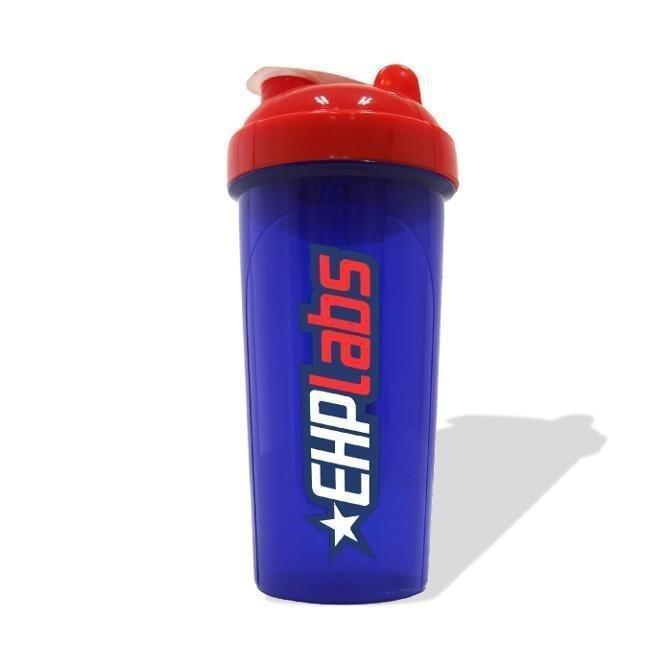gym bottle: (225, 62, 460, 608)
